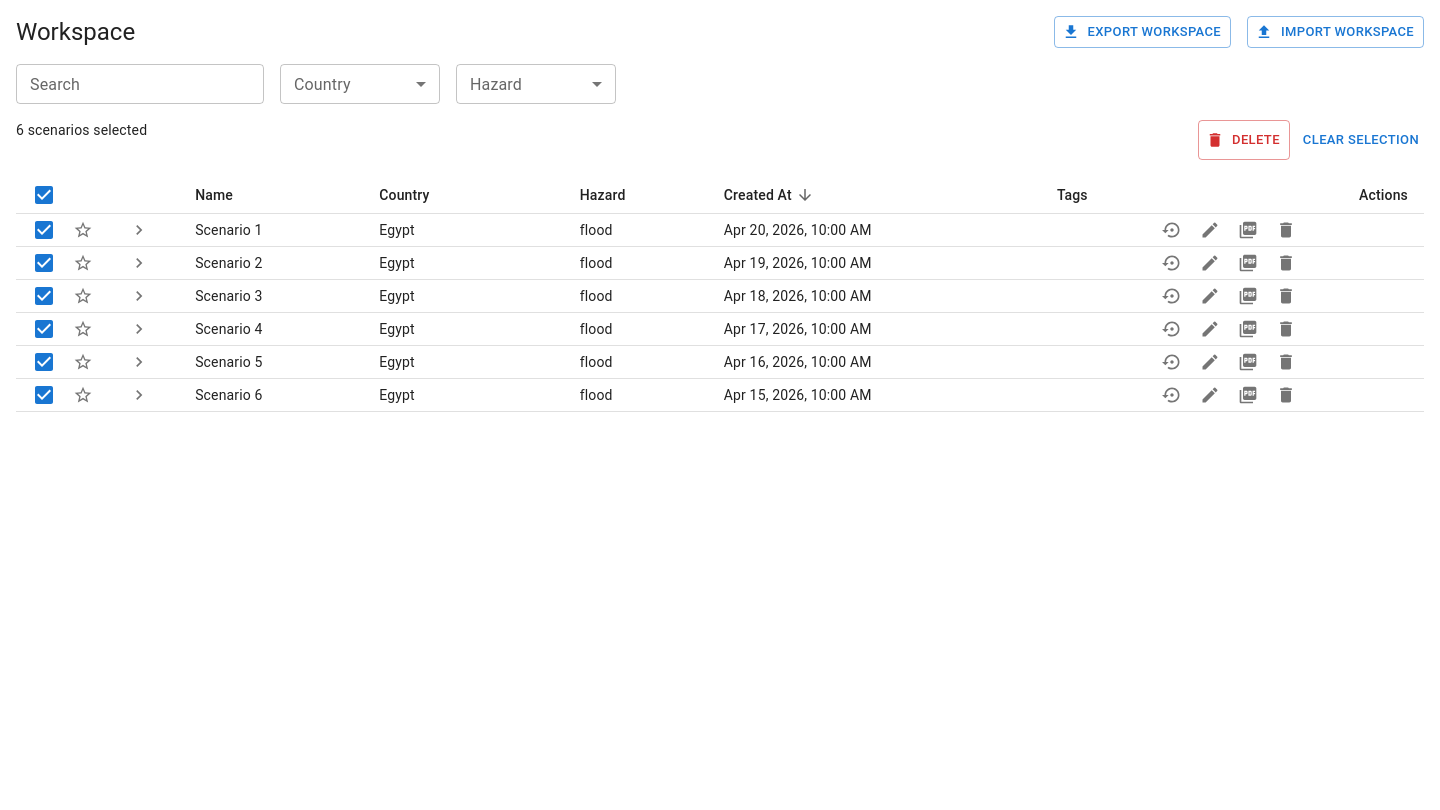
Test: Workspace bulk delete › omits the name list in the confirm dialog when count > 5
Click the button with aria-label "bulk-delete-open" at (1244, 140), box x1=1198 y1=120 x2=1290 y2=160
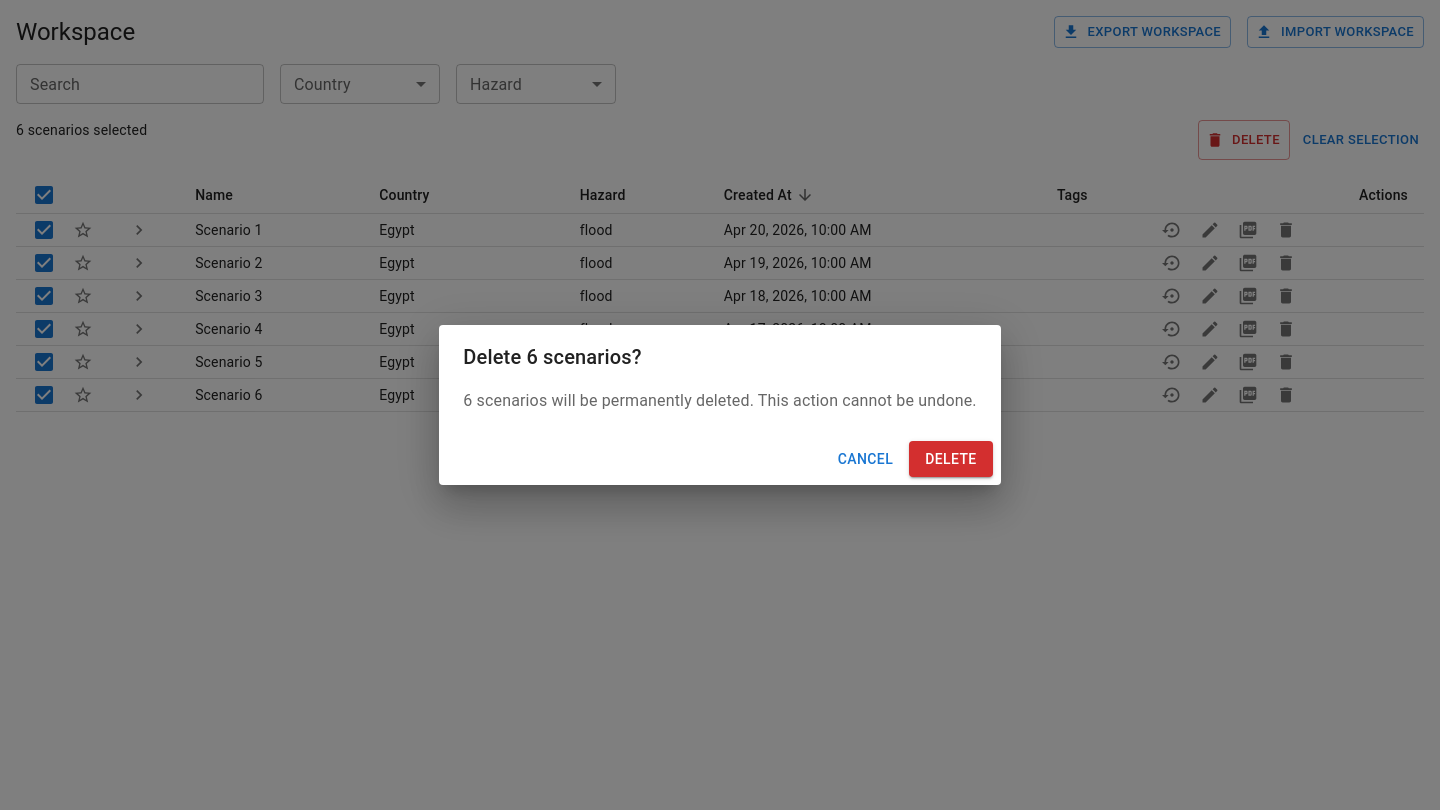
Expected: the heading "Delete 6 scenarios?" is shown, x1=463 y1=345 x2=642 y2=369
Expected: the text "6 scenarios will be permanently deleted" is shown, x1=463 y1=391 x2=977 y2=410
